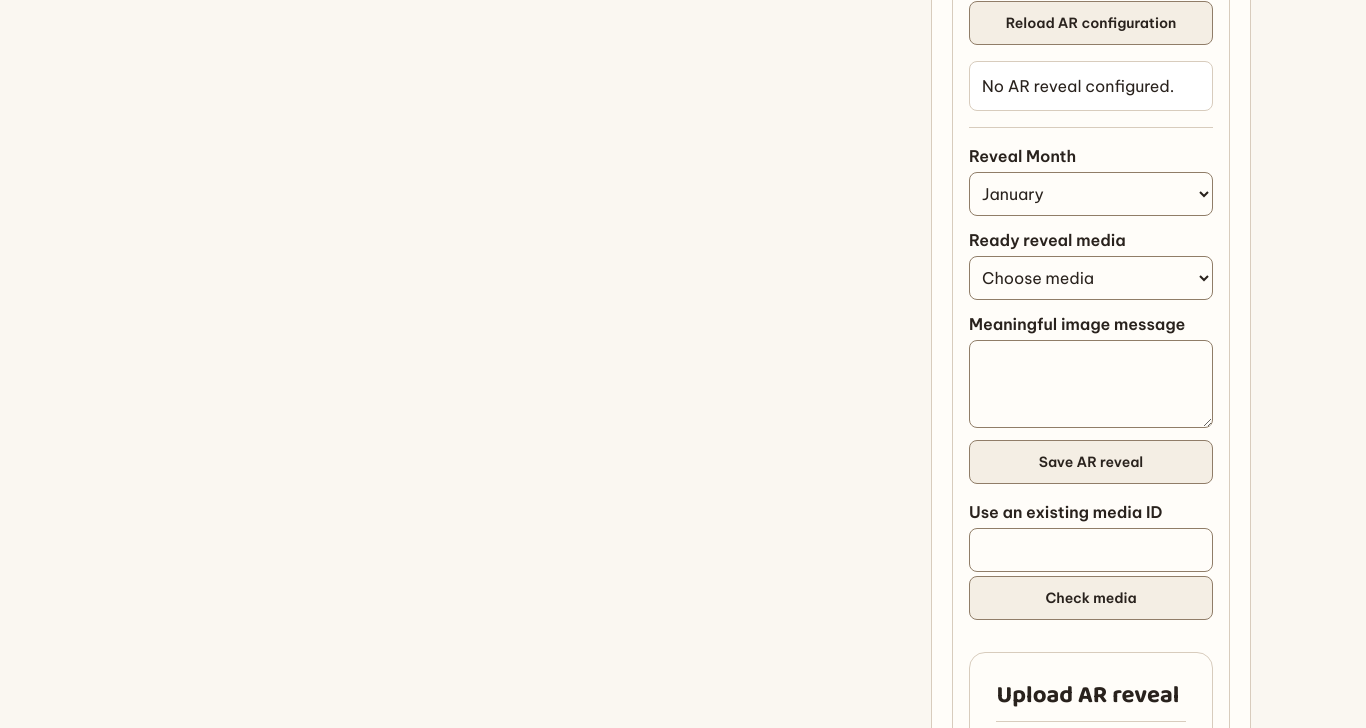
Test case: Batch 2 draft preservation › F04 protects an AR-only text draft on Back and beforeunload, then preserves it on Stay
(page scrolled)
In the text box labelled "Meaningful image message": (1091, 384) left=969, top=340, right=1213, bottom=428, type "AR-only private draft"
(page scrolled)
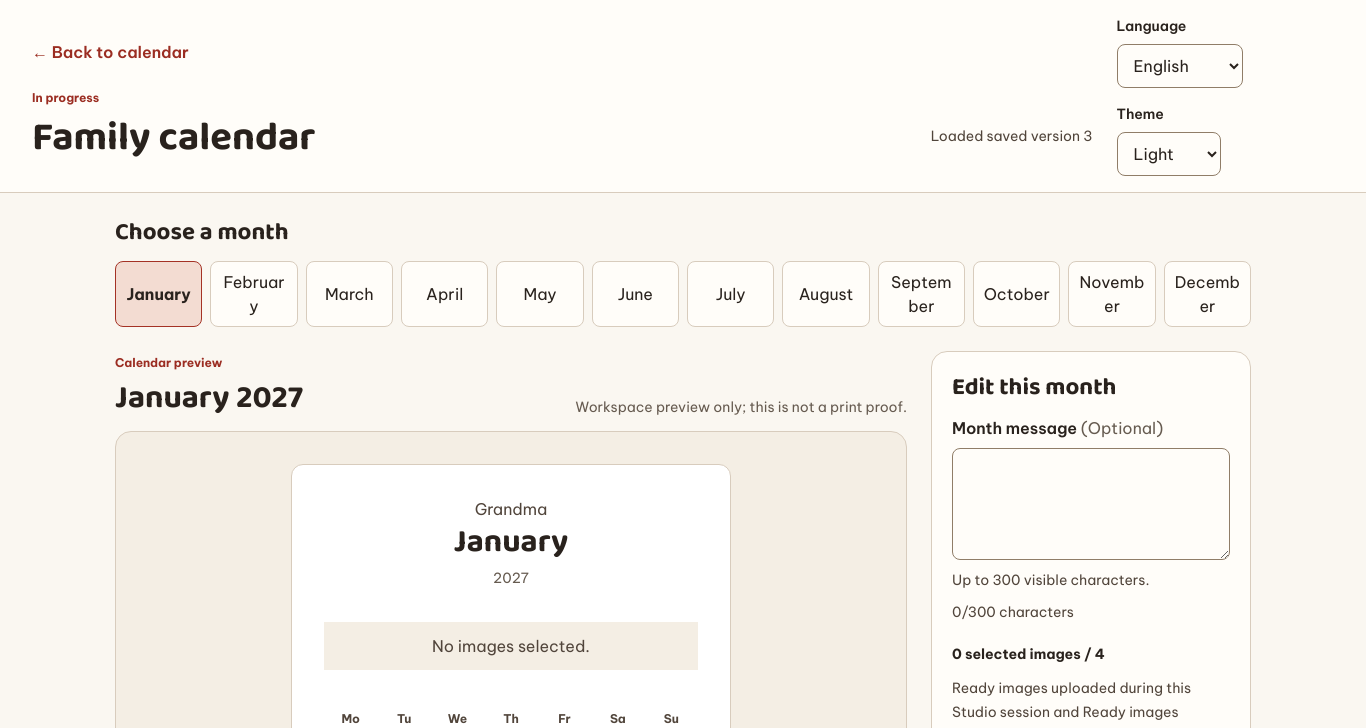
Click the link "← Back to calendar": (110, 52) left=32, top=42, right=189, bottom=62
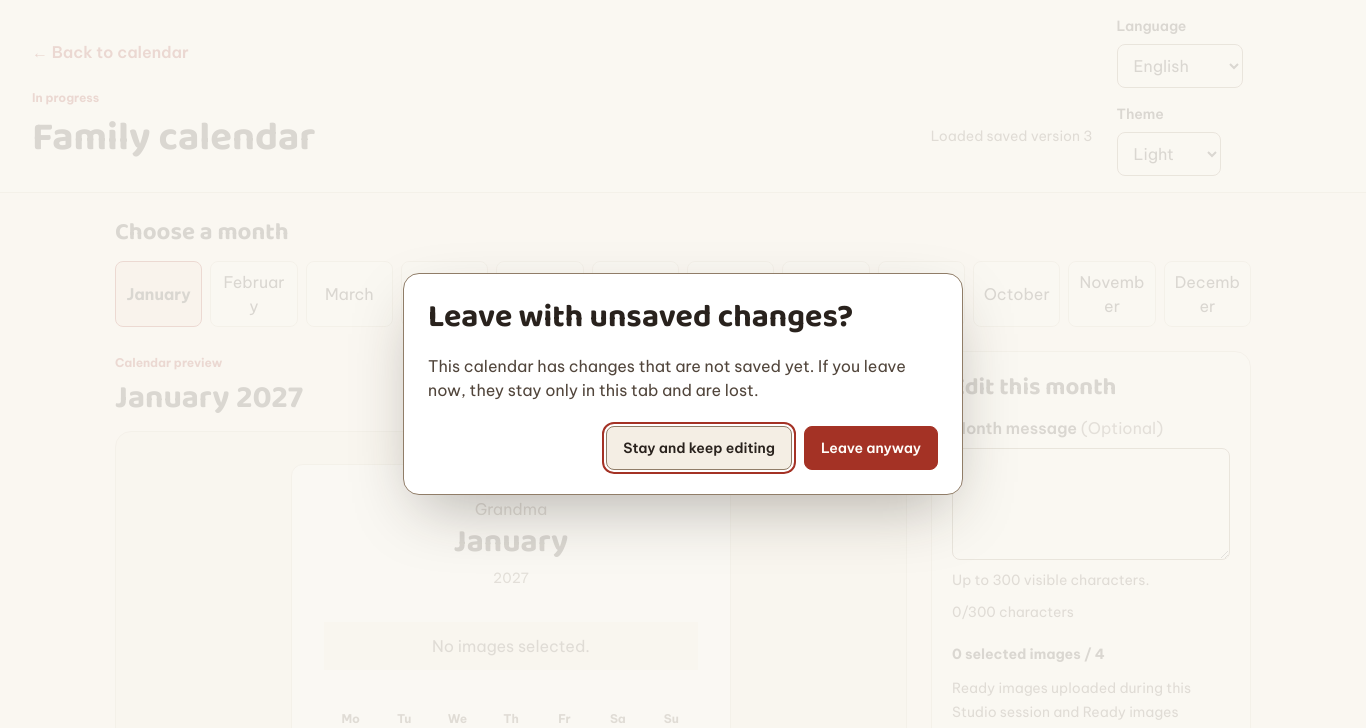
Click the button "Stay and keep editing": (699, 448) left=606, top=426, right=792, bottom=470
(page scrolled)
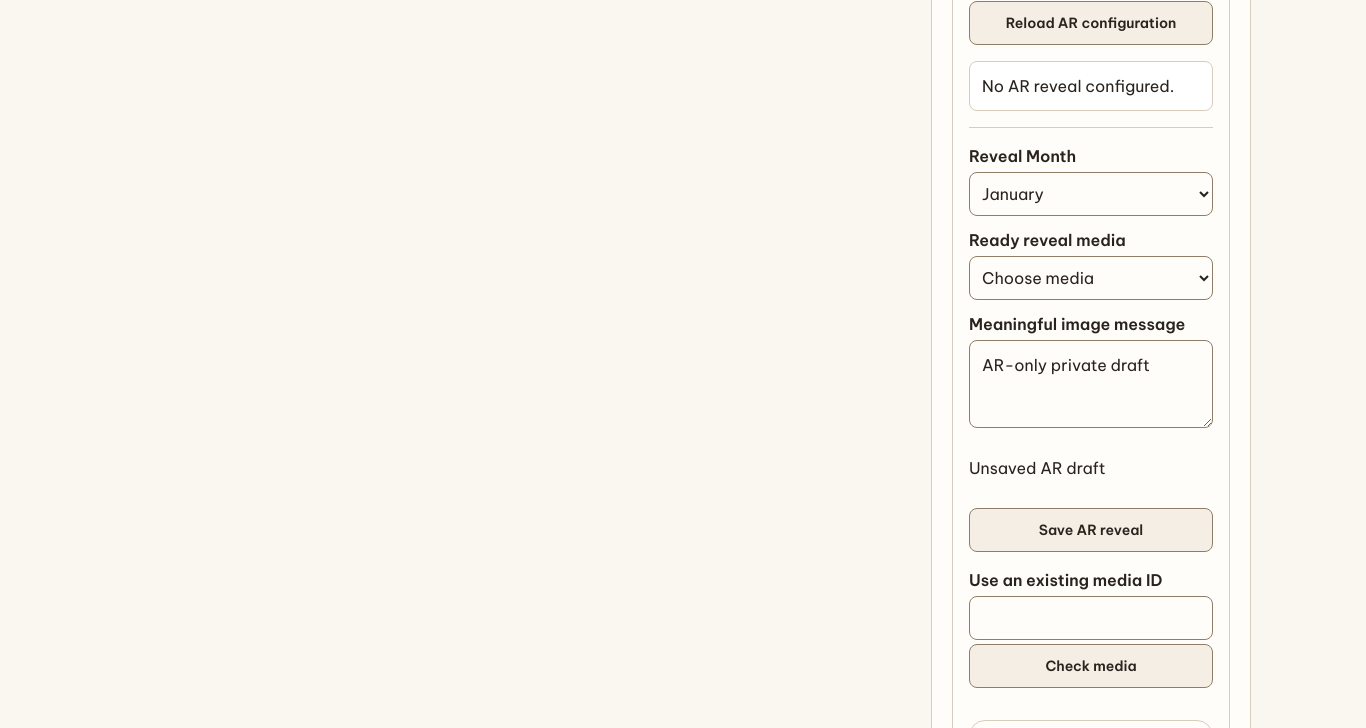
Check: the dialog is gone
